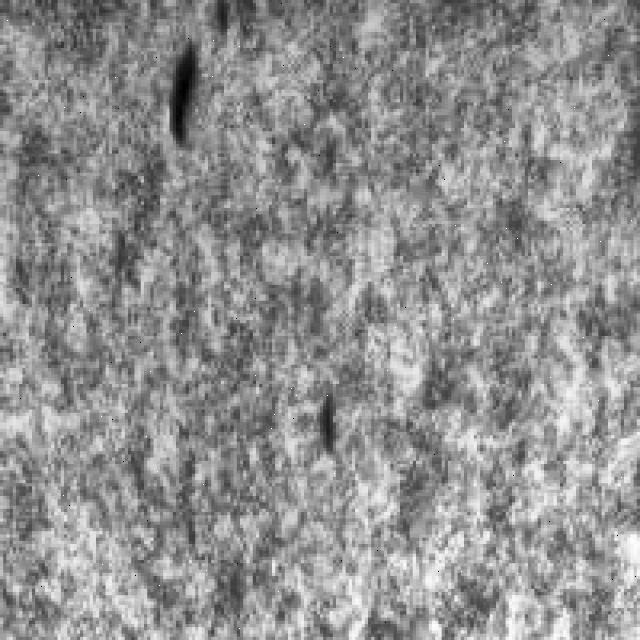Patches: (156, 0, 234, 147), (304, 381, 349, 461)
